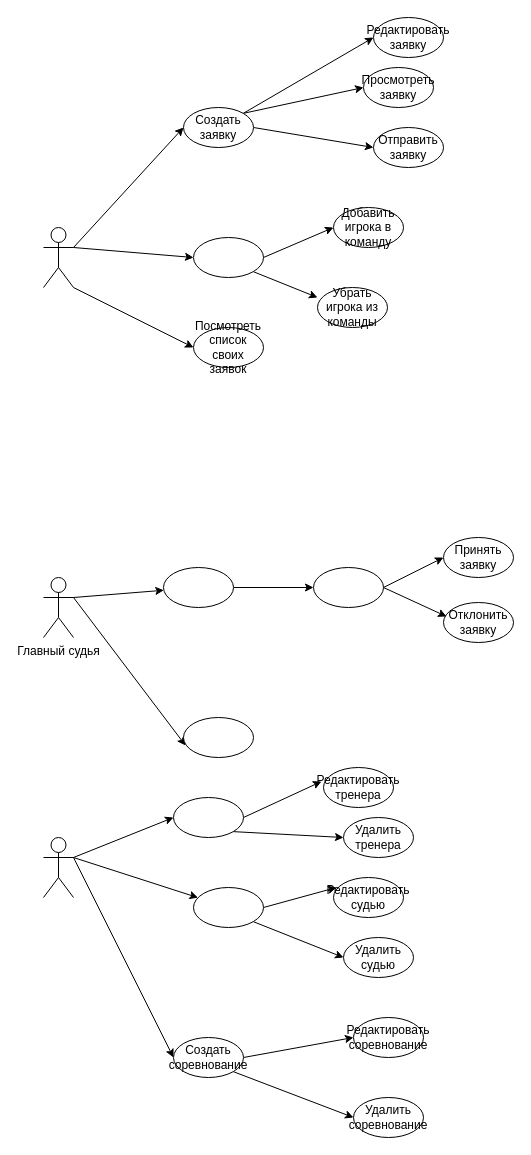
Image size: 531x1155. Some labels were removed from this diagram. The box of each missing label's shape, as (x1, y1, x2, y2) in pixels:
Получить информацию о заявке: (312, 566, 384, 608)
Посмотреть список заявок: (162, 566, 234, 608)
Рассмотреть заявку: (182, 716, 254, 758)
Система: (42, 836, 74, 898)
Создать команду: (192, 236, 264, 278)
Создать судью: (192, 886, 264, 928)
Создать тренера: (172, 796, 244, 838)
Тренер: (42, 226, 74, 288)
